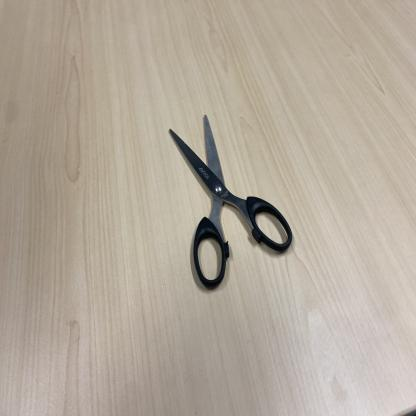scissors: (167, 114, 294, 292)
